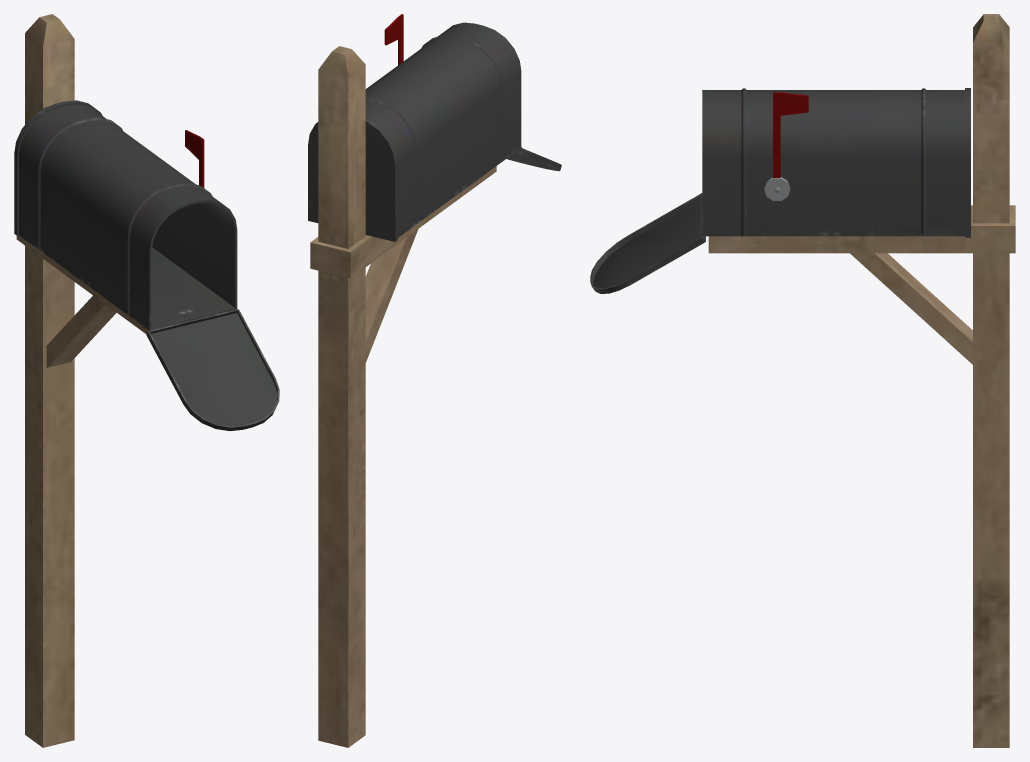
Rendered from Mailbox.glb.
3 views of the same model, side by side, from view 1: azimuth 30°, elevation 25°; view 2: azimuth 150°, elevation 25°; view 3: azimuth 270°, elevation 25° (orthographic). The views are drawn at different scales.
Visible parts, largest first — view 1: Flag; view 2: Flag; view 3: Flag.
Part boxes in pixels (x1,y1,x2,y2): Flag: (14, 14, 279, 747); Flag: (308, 14, 561, 747); Flag: (590, 14, 1015, 747).
Bounding box in the file's own units: 0.5111 × 3.74 × 2.
Materials: 1 (1 with a texture image).
